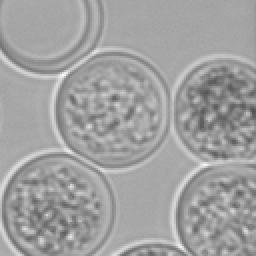picoshell: (50, 48, 168, 172), (0, 148, 118, 254), (170, 54, 254, 160), (170, 160, 254, 254), (110, 238, 190, 254)
